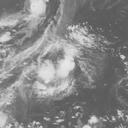cyclone: (28, 40, 79, 99)
